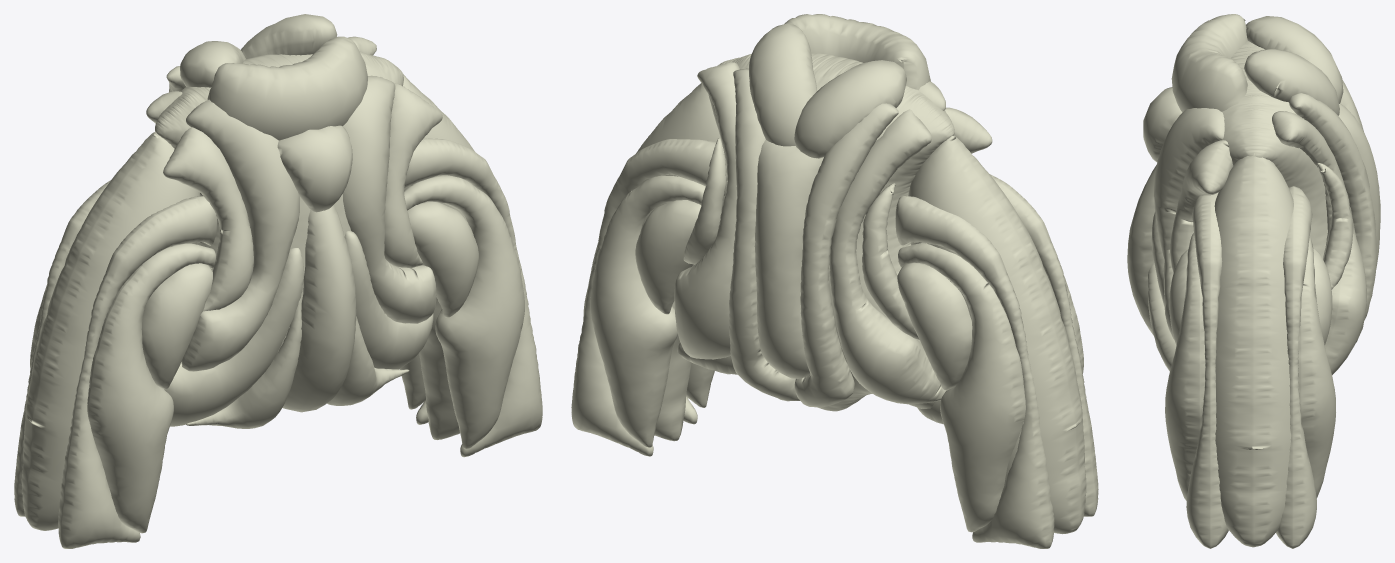
File: beige_puffer-transformed.glb
3 renders of one model, left to right at view 1: azimuth 30°, elevation 25°; view 2: azimuth 150°, elevation 25°; view 3: azimuth 270°, elevation 25°, orthographic. The views are drawn at different scales.
Parts seen in each view (by area): view 1: Bras gauche, Style bras2.002, Style bras2.001, Mesh_0.012, Style bras1.001, Mesh_0.017, Mesh_0.007, Mesh_0.015, Style bras1.002, Mesh_0.011, Mesh_0.013, Style bras3.002 (+12 smaller); view 2: Mesh_0.009, Bras gauche, Style bras2, Style bras2.003, Mesh_0.005, Style bras1, Mesh_0.010, Mesh_0.001, Style bras1.003, Mesh_0.018, Body, Mesh_0.043 (+10 smaller); view 3: Bras gauche.001, Style bras1.002, Style bras1.003, Body, Style bras2.001, Mesh_0.017, Mesh_0.001, Style bras2.003, Mesh_0.009, Mesh_0.007, Mesh_0.018, Mesh_0.008 (+9 smaller).
Boxes of the visible parts, x1,y1,x2,y2 form: Bras gauche: (21,132,200,530); Style bras2.002: (87,243,215,533); Style bras2.001: (404,175,524,449); Mesh_0.012: (181,99,299,371); Style bras1.001: (58,196,217,548); Mesh_0.017: (207,36,367,140); Mesh_0.007: (342,75,436,323); Mesh_0.015: (282,205,356,412); Style bras1.002: (404,138,542,457); Mesh_0.011: (163,127,253,311); Mesh_0.013: (164,248,303,426); Style bras3.002: (141,263,212,389); Mesh_0.009: (729,68,898,407); Bras gauche: (908,135,1086,534); Style bras2: (898,243,1025,532); Style bras2.003: (590,175,705,447); Mesh_0.005: (829,109,946,404); Style bras1: (895,196,1054,548); Mesh_0.010: (754,139,823,378); Mesh_0.001: (674,62,739,359); Style bras1.003: (571,139,727,456); Mesh_0.018: (749,23,816,146); Body: (708,53,954,411); Mesh_0.043: (794,60,906,158); Bras gauche.001: (1214,153,1293,547); Style bras1.002: (1186,192,1228,548); Style bras1.003: (1276,186,1316,548); Body: (1221,41,1327,258); Style bras2.001: (1165,233,1205,500); Mesh_0.017: (1171,14,1247,112); Mesh_0.001: (1272,111,1366,374); Style bras2.003: (1298,236,1335,498); Mesh_0.009: (1289,80,1376,343); Mesh_0.007: (1154,108,1224,339); Mesh_0.018: (1244,49,1339,115); Mesh_0.008: (1170,140,1233,272).
Size of the model in its own units: 6.45 by 5.63 by 3.05.
